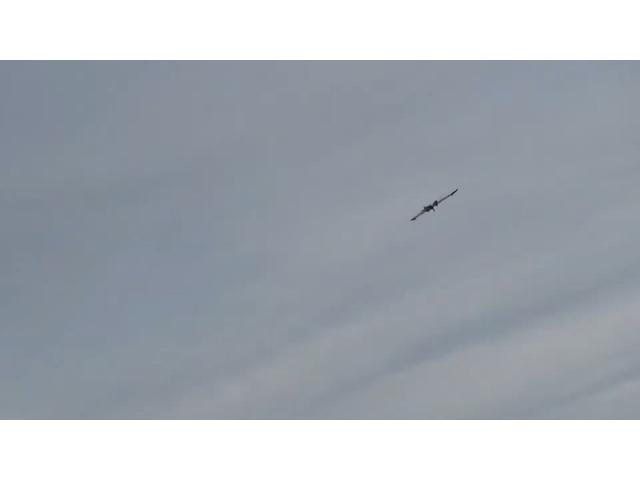Anti-Drone: (410, 190, 458, 220)
